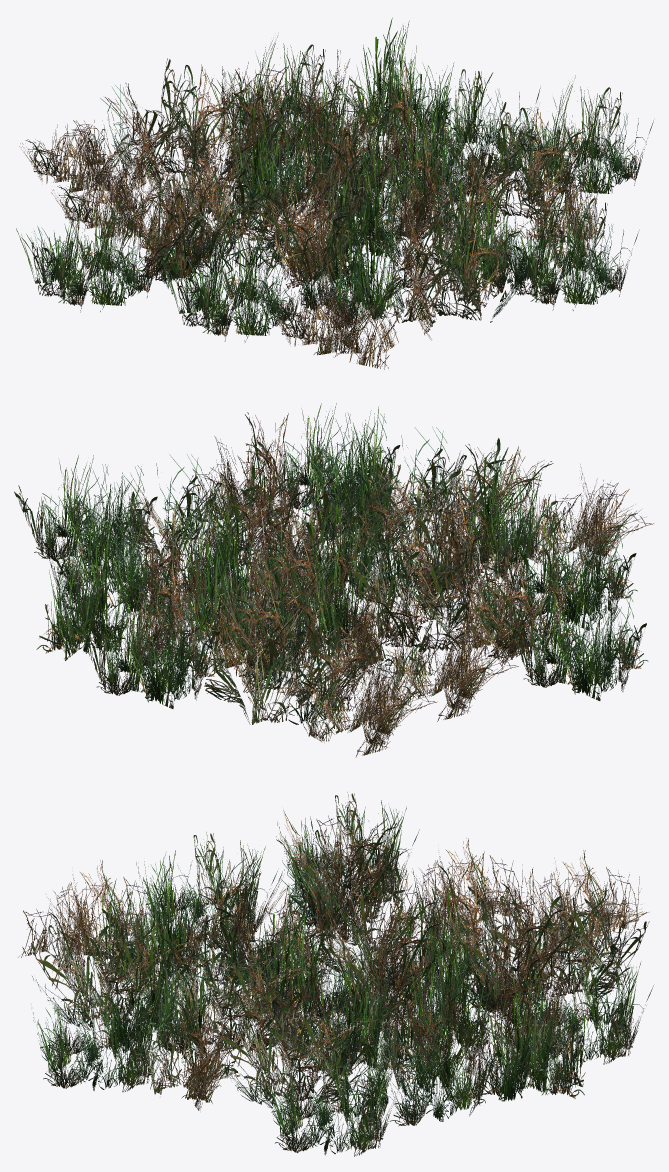
The model's file is bigpatch_big.fbx.
3 renders of one model, top to bottom at view 1: azimuth 30°, elevation 25°; view 2: azimuth 150°, elevation 25°; view 3: azimuth 270°, elevation 25°, orthographic. The views are drawn at different scales.
Parts seen in each view (by area): view 1: leaf_bigpatch_big_mesh; view 2: leaf_bigpatch_big_mesh; view 3: leaf_bigpatch_big_mesh.
Part boxes in pixels (left/top/right/bottom): leaf_bigpatch_big_mesh: left=16, top=17, right=653, bottom=369; leaf_bigpatch_big_mesh: left=14, top=403, right=653, bottom=757; leaf_bigpatch_big_mesh: left=18, top=792, right=653, bottom=1156.
Size of the model in its own units: 8.47 by 1.64 by 7.47.
Materials: 1 (1 with a texture image).
